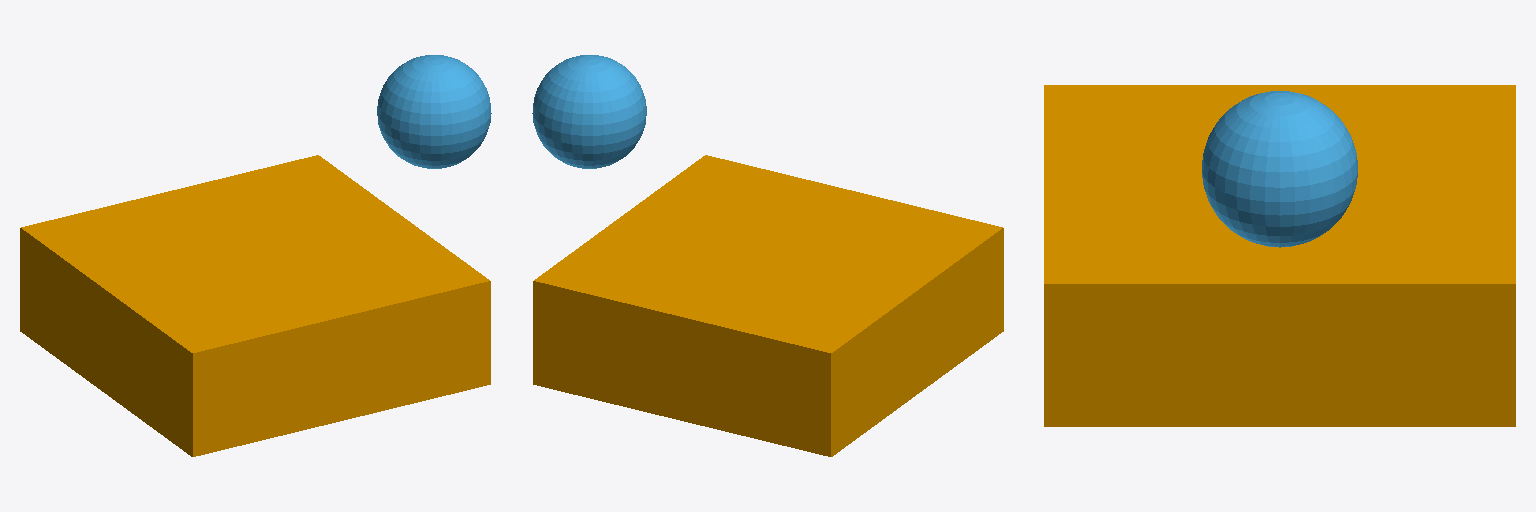
robot.urdf — capra6:
<robot name="capra6">
    <link name="base_link">
        <visual>
            <geometry>
                <!-- <mesh filename="package://capra_gazebo/models/capra6/meshes/capra6V2.stl"/>-->
                <box size="0.6 0.6 0.2" />
            </geometry>
            <origin rpy="0 0 0" xyz="0 0 0.15" />
        </visual>
        <inertial>
            <mass value="1" />
            <inertia ixx="1.0" ixy="0.0" ixz="0.0" iyy="1.0" iyz="0.0" izz="1.0" />
        </inertial>
        <collision>
            <geometry>
                <box size="0.6 0.6 0.2" />
            </geometry>
            <origin rpy="0 0 0" xyz="0 0 0.15" />
        </collision>
    </link>

    <joint name="joint1" type="fixed">
        <parent link="base_link" />
        <child link="laser" />
        <origin xyz="0.36 0 0.44" rpy="0 0 0" />
    </joint>
        
    <link name="laser">
        <visual>
            <geometry>
                <sphere radius="0.1" />
            </geometry>
        </visual>
        <inertial>
            <mass value="1" />
            <inertia ixx="1.0" ixy="0.0" ixz="0.0" iyy="1.0" iyz="0.0" izz="1.0" />
        </inertial>
        <collision>
            <geometry>
                <sphere radius="0.1" />
            </geometry>
        </collision>
    </link>

</robot>

--- Facts derived from the render (not from the file) ---
3 views of the same robot in one strip: view 1: azimuth 30°, elevation 25°; view 2: azimuth 150°, elevation 25°; view 3: azimuth 270°, elevation 25° (orthographic).
Model capra6 with 2 links and 1 joints (1 fixed), rooted at base_link, posed every joint at zero.
Visible links, largest first — view 1: base_link, laser; view 2: base_link, laser; view 3: base_link, laser.
Link boxes in pixels (x1,y1,x2,y2): base_link: [20, 155, 490, 456]; laser: [377, 55, 491, 168]; base_link: [533, 155, 1003, 456]; laser: [532, 55, 646, 168]; base_link: [1044, 85, 1515, 426]; laser: [1202, 91, 1357, 247].
Bounding box of the posed robot: 0.76 × 0.6 × 0.49 m (x, y, z).
Geometry: primitives only (box / cylinder / sphere), no mesh files.